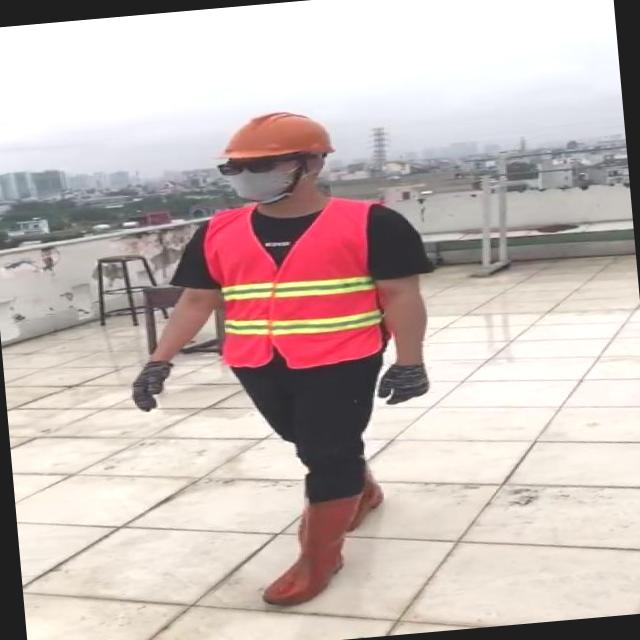boots: (252, 492, 370, 608), (341, 452, 386, 534)
gloves: (108, 327, 194, 418), (366, 356, 452, 438)
helmet: (215, 100, 346, 163)
vest: (207, 195, 395, 373)
